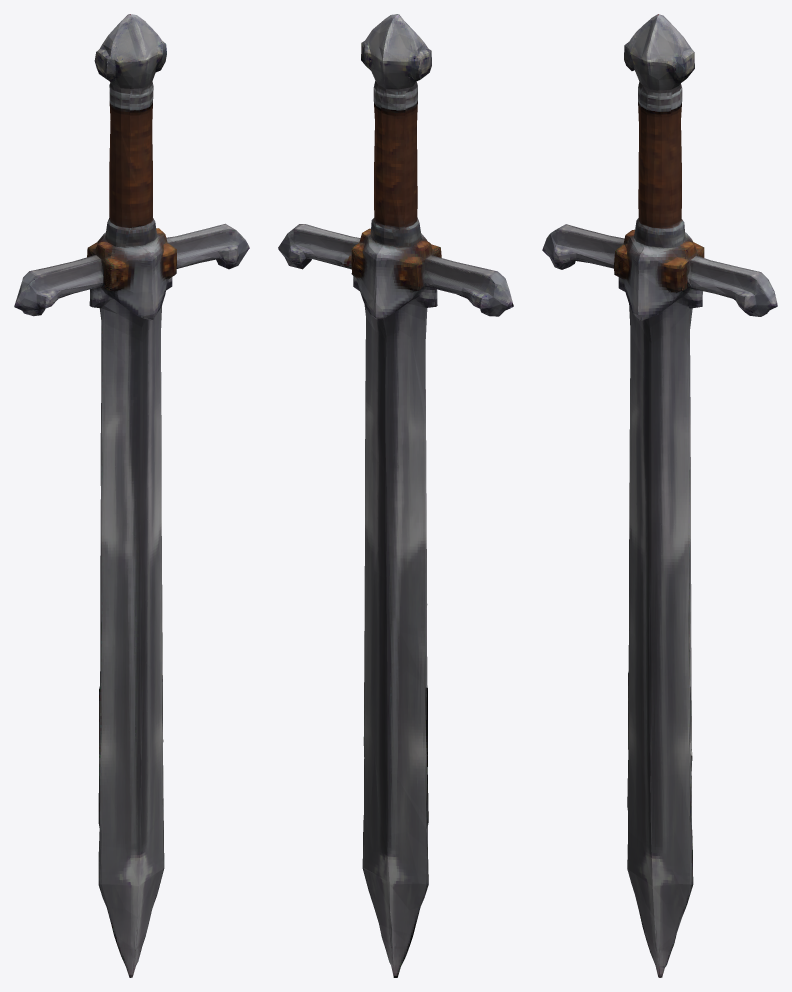
File: IronSword.fbx
The picture shows the model from 3 angles, left to right: view 1: azimuth 30°, elevation 25°; view 2: azimuth 150°, elevation 25°; view 3: azimuth 330°, elevation 25°; orthographic projection.
Visible parts, largest first — view 1: world; view 2: world; view 3: world.
Part boxes in pixels (box(x1,y1,x2,y2)): world: box(14, 14, 249, 977); world: box(278, 14, 513, 977); world: box(542, 14, 777, 977).
Size of the model in its own units: 25.63 by 100 by 8.24.
1 material, 1 textured.
